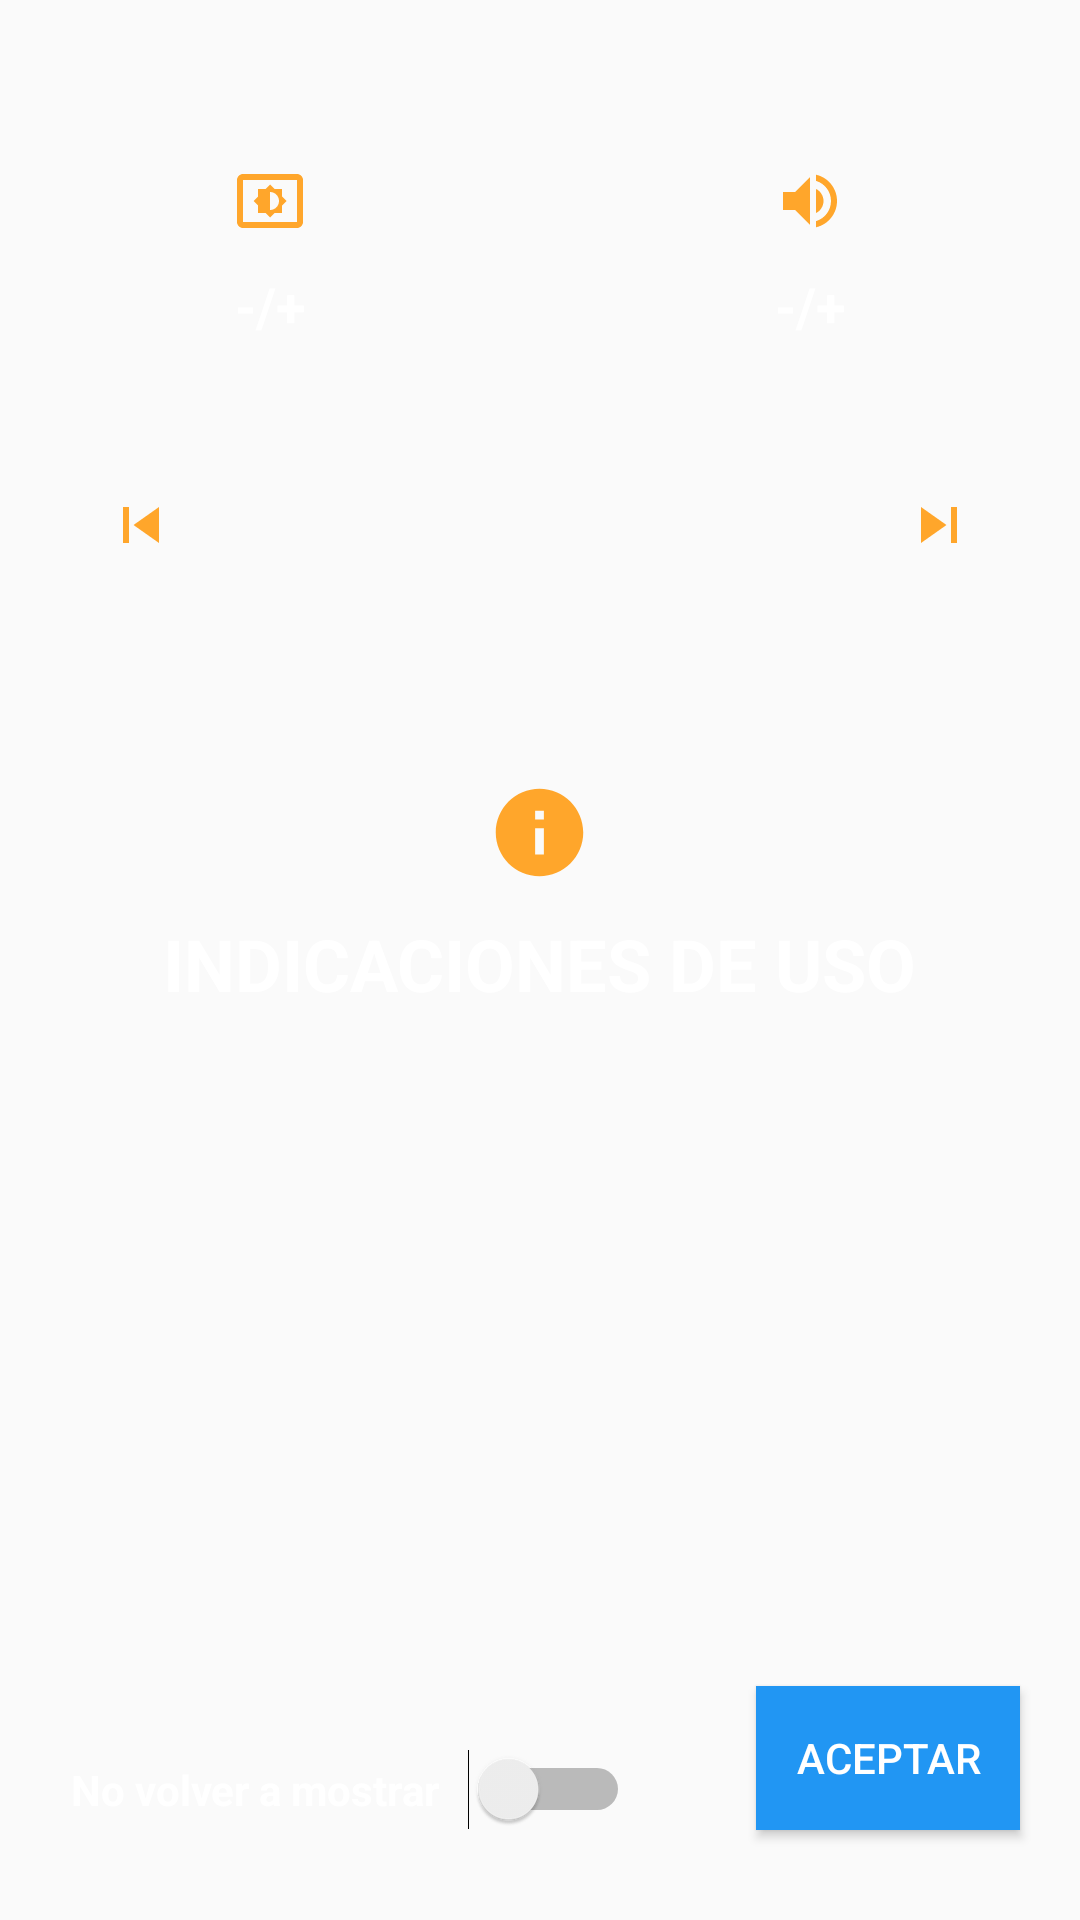

Icon click points for this 1080x1920 phone screenshot, format (x=x, y=y):
info: (x=539, y=832)
